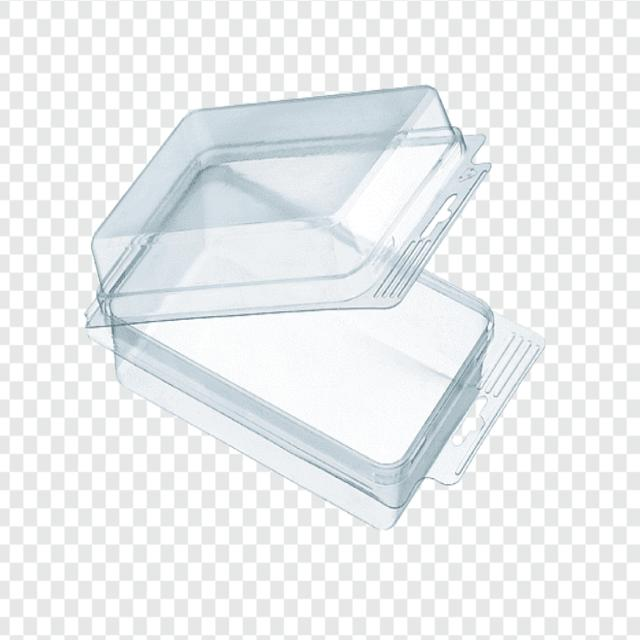recyclable: (66, 75, 559, 538)
